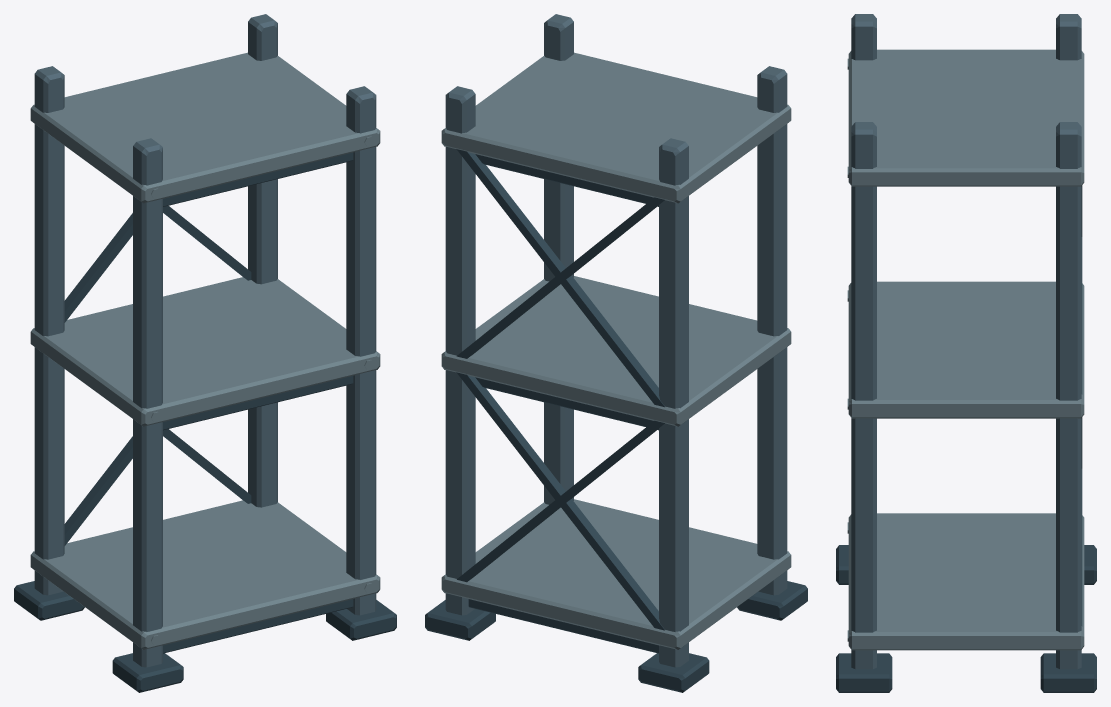
Rendered from 02_EmptyRack_1m.obj.
3 renders of one model, left to right at view 1: azimuth 30°, elevation 25°; view 2: azimuth 150°, elevation 25°; view 3: azimuth 270°, elevation 25°, orthographic. The views are drawn at different scales.
Size of the model in its own units: 1.22 by 2.4 by 1.02.
